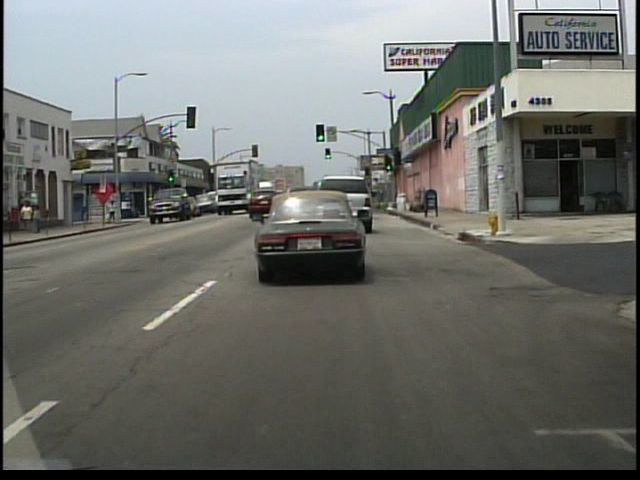person: (24, 199, 36, 232), (34, 204, 45, 234), (106, 199, 117, 223)
